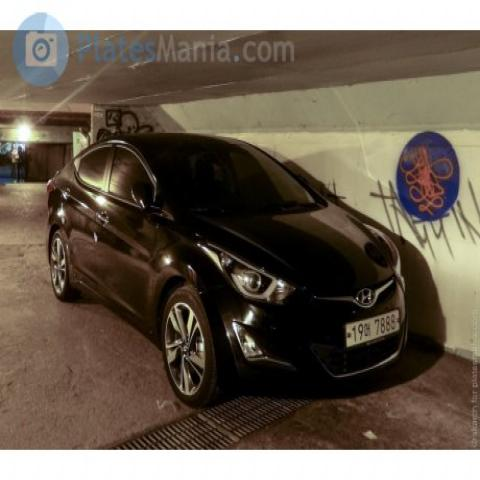LP: (341, 298, 409, 352)
